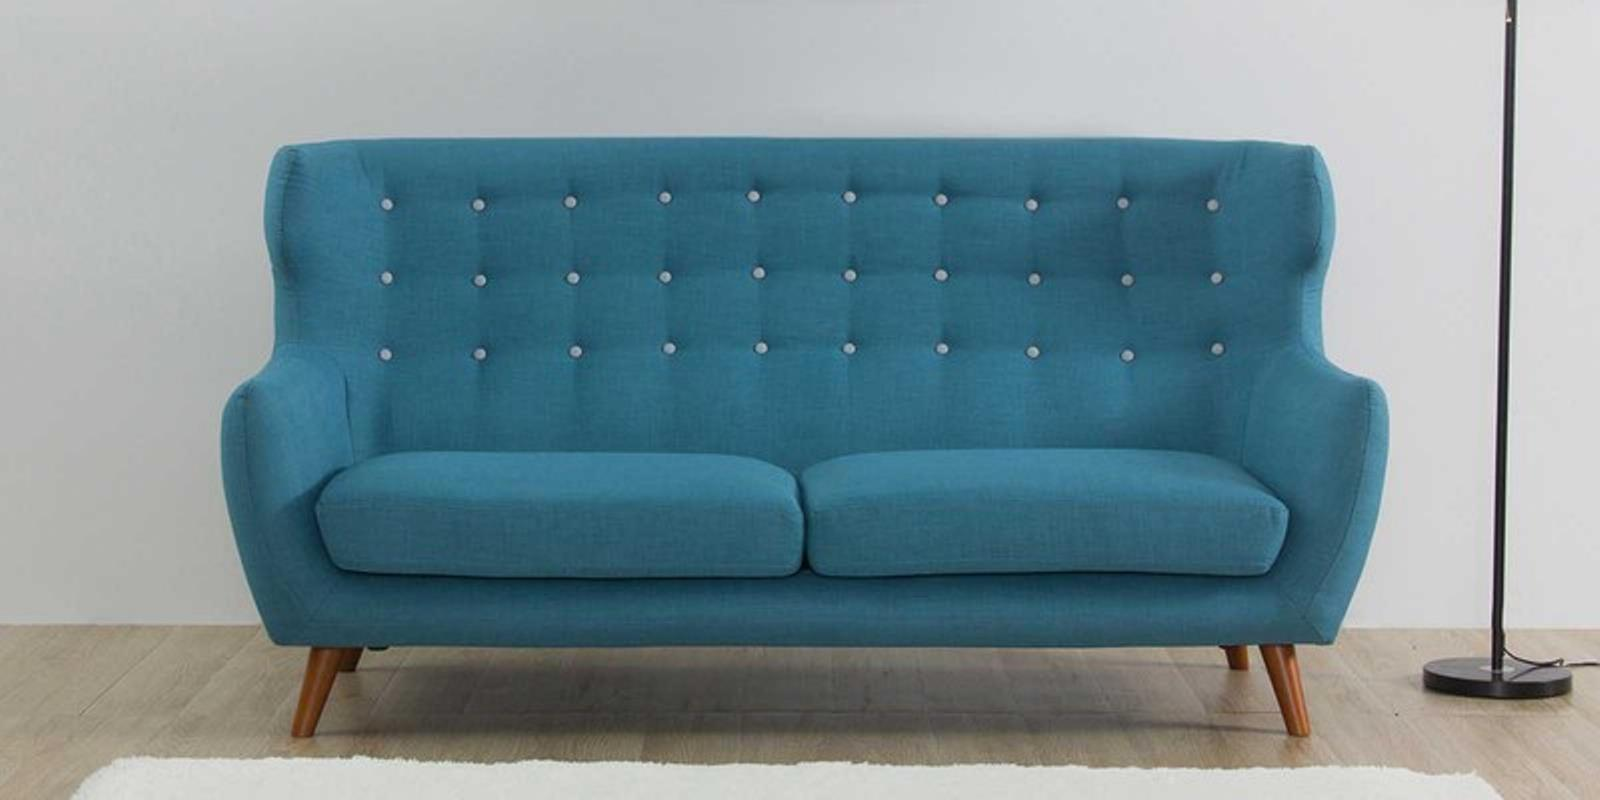Valencia Three Seater Sofa in Ocean Blue Colour by CasaCraft: (194, 118, 1410, 751)
